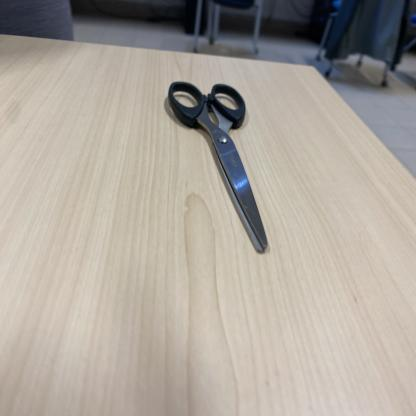scissors: (168, 81, 269, 254)
